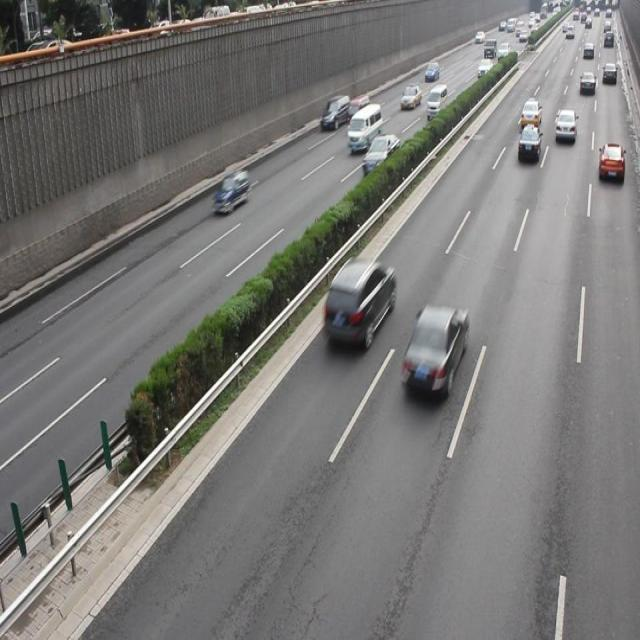car: (322, 255, 394, 349), (400, 300, 467, 398), (214, 168, 248, 214), (363, 134, 398, 175), (598, 142, 624, 183), (517, 125, 539, 161), (554, 109, 575, 141), (519, 98, 541, 127)
truck: (348, 103, 381, 153), (321, 94, 348, 128), (426, 84, 447, 120), (347, 93, 367, 120)
